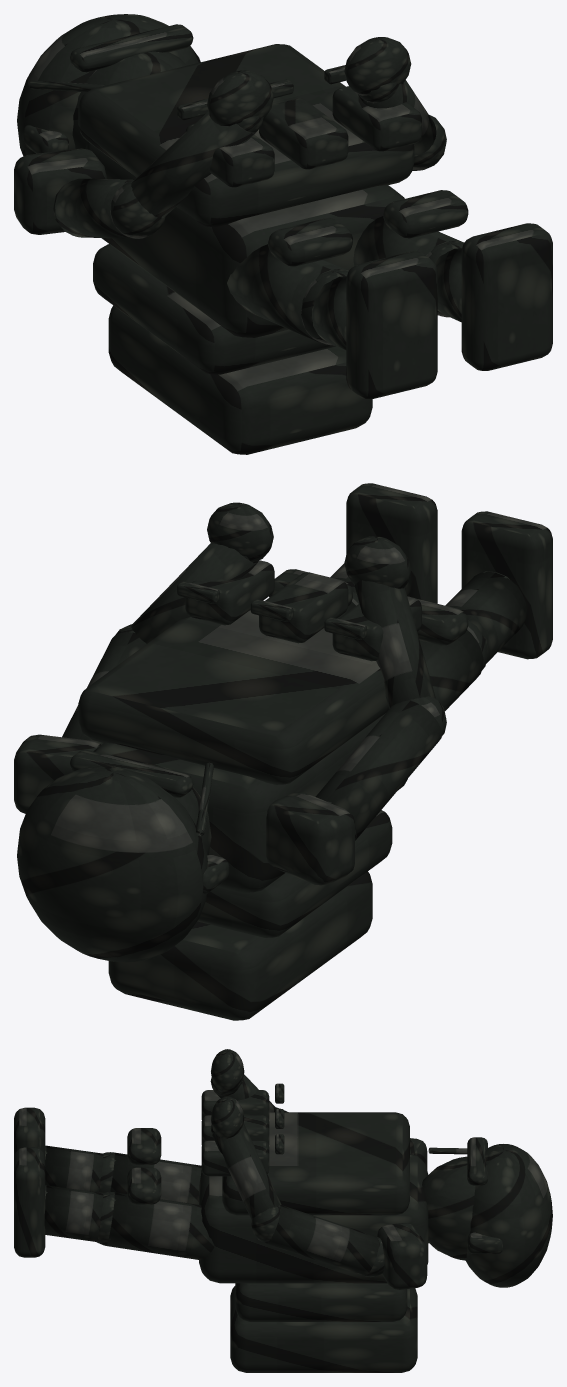
The model's file is player_tactical_candidate.glb.
3 views of the same model, one above another, from view 1: azimuth 30°, elevation 25°; view 2: azimuth 150°, elevation 25°; view 3: azimuth 270°, elevation 25° (orthographic). The views are drawn at different scales.
Parts seen in each view (by area): view 1: front_plate_carrier_with_beveled_ceramic_panel, hydration_backpack_and_radio_pack, anatomical_torso_underlayer, boot_with_sculpted_sole_-0.18, boot_with_sculpted_sole_0.18, rear_plate_carrier_panel, ballistic_helmet_shell, forearm_glove_sleeve_-0.39, upper_leg_fatigues_-0.18, shoulder_armor_pad_-0.39, front_magazine_pouch_0, front_magazine_pouch_0.23 (+17 smaller); view 2: front_plate_carrier_with_beveled_ceramic_panel, ballistic_helmet_shell, hydration_backpack_and_radio_pack, anatomical_torso_underlayer, boot_with_sculpted_sole_-0.18, upper_arm_cloth_-0.39, rear_plate_carrier_panel, shoulder_armor_pad_-0.39, boot_with_sculpted_sole_0.18, forearm_glove_sleeve_-0.39, front_magazine_pouch_0, lower_leg_boot_gaiter_-0.18 (+16 smaller); view 3: front_plate_carrier_with_beveled_ceramic_panel, hydration_backpack_and_radio_pack, anatomical_torso_underlayer, ballistic_helmet_shell, rear_plate_carrier_panel, upper_leg_fatigues_0.18, upper_arm_cloth_0.39, human_face_visible_under_helmet, boot_with_sculpted_sole_0.18, forearm_glove_sleeve_0.39, lower_leg_boot_gaiter_0.18, shoulder_armor_pad_0.39 (+16 smaller).
Part boxes in pixels (x1,y1,x2,y2): front_plate_carrier_with_beveled_ceramic_panel: (78, 44, 414, 227); hydration_backpack_and_radio_pack: (108, 305, 372, 454); anatomical_torso_underlayer: (85, 141, 404, 337); boot_with_sculpted_sole_-0.18: (346, 251, 437, 399); boot_with_sculpted_sole_0.18: (461, 223, 552, 370); rear_plate_carrier_panel: (93, 244, 335, 374); ballistic_helmet_shell: (17, 14, 200, 156); forearm_glove_sleeve_-0.39: (131, 111, 256, 218); upper_leg_fatigues_-0.18: (227, 244, 348, 343); shoulder_armor_pad_-0.39: (14, 148, 106, 234); front_magazine_pouch_0: (259, 98, 348, 169); front_magazine_pouch_0.23: (332, 86, 421, 151); front_plate_carrier_with_beveled_ceramic_panel: (78, 610, 388, 784); ballistic_helmet_shell: (17, 766, 207, 962); hydration_backpack_and_radio_pack: (108, 871, 372, 1020); anatomical_torso_underlayer: (93, 713, 407, 892); boot_with_sculpted_sole_-0.18: (461, 511, 552, 659); upper_arm_cloth_-0.39: (315, 700, 441, 840); rear_plate_carrier_panel: (197, 810, 392, 937); shoulder_armor_pad_-0.39: (266, 792, 354, 885); boot_with_sculpted_sole_0.18: (346, 483, 437, 603); forearm_glove_sleeve_-0.39: (354, 580, 435, 708); front_magazine_pouch_0: (259, 572, 348, 643); lower_leg_boot_gaiter_-0.18: (445, 571, 526, 663); front_plate_carrier_with_beveled_ceramic_panel: (222, 1112, 409, 1215); hydration_backpack_and_radio_pack: (230, 1286, 417, 1372); anatomical_torso_underlayer: (199, 1154, 428, 1283); ballistic_helmet_shell: (465, 1144, 552, 1287); rear_plate_carrier_panel: (235, 1283, 407, 1321); upper_leg_fatigues_0.18: (106, 1192, 214, 1260); upper_arm_cloth_0.39: (265, 1205, 379, 1275); human_face_visible_under_helmet: (422, 1156, 475, 1260); boot_with_sculpted_sole_0.18: (14, 1147, 45, 1257); forearm_glove_sleeve_0.39: (212, 1123, 281, 1219); lower_leg_boot_gaiter_0.18: (44, 1185, 103, 1241); shoulder_armor_pad_0.39: (377, 1223, 427, 1289).
Size of the model in its own units: 0.9092 by 1.03 by 1.82.
1 material, 1 textured.
